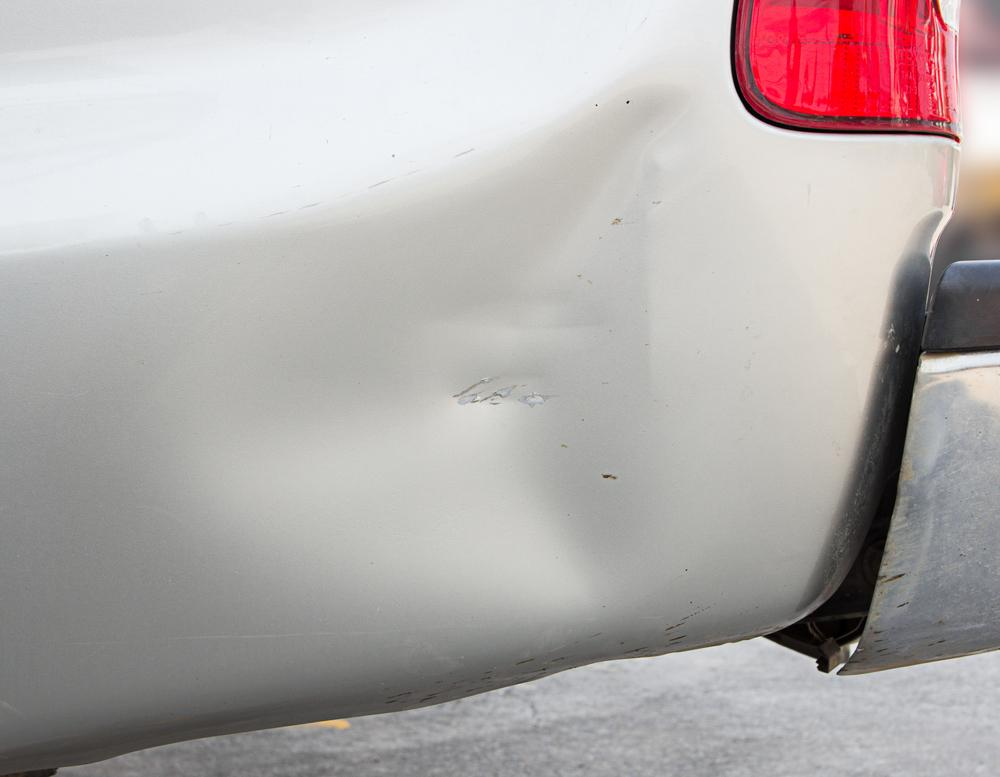dent: (186, 80, 692, 598)
scratch: (371, 603, 719, 704), (849, 541, 956, 668)
